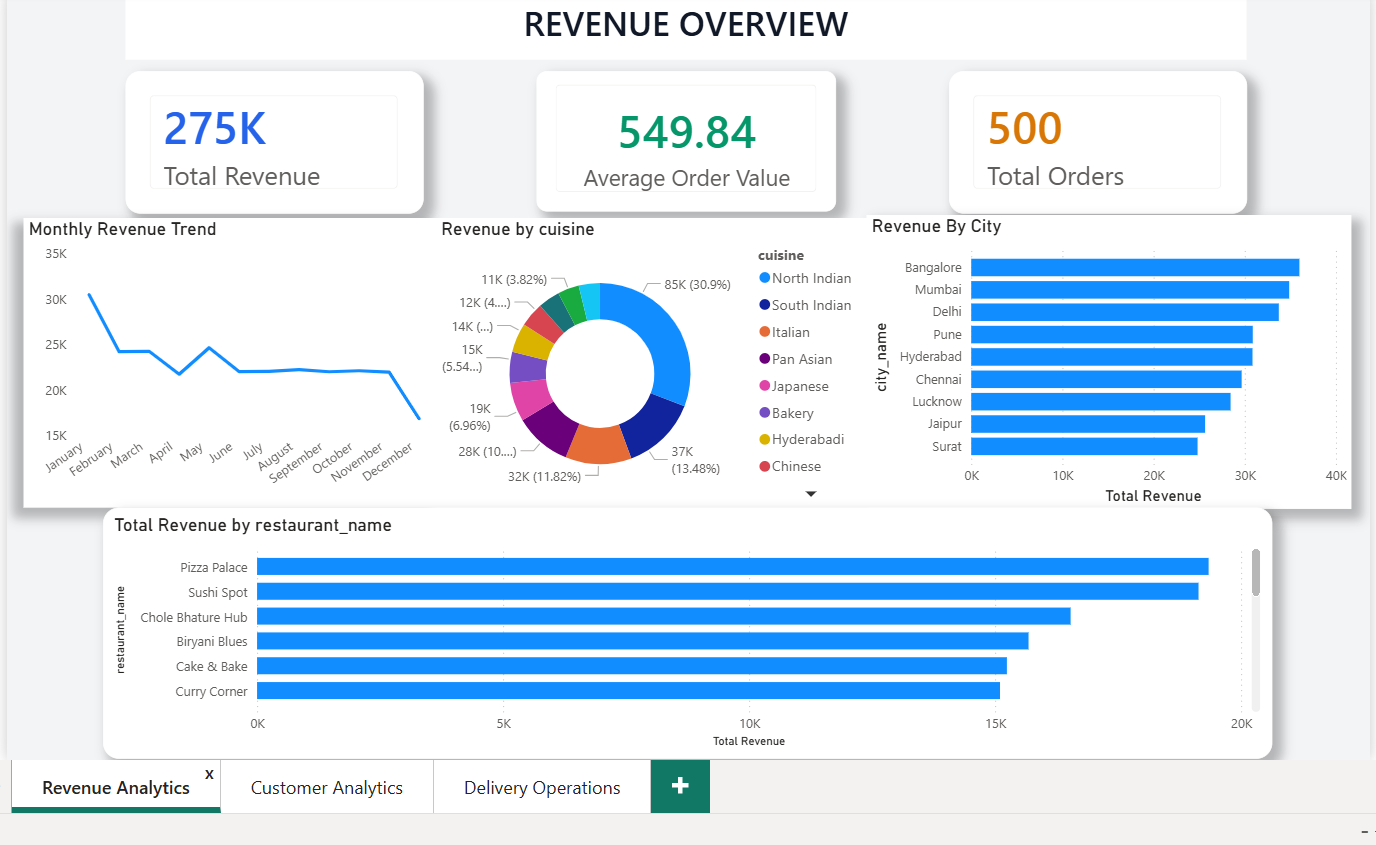

The dashboard page shown, as its layout file describes it:
{"tool":"powerbi","page":{"name":"Revenue Analytics","canvas":[1280,720],"ordinal":0},"visuals":[{"type":"cardVisual","fields":{"Data":["customer_analytics_dataset.Total Revenue"]},"box":[111.5,73.7,279.7,134.2],"z":0},{"type":"cardVisual","fields":{"Data":["customer_analytics_dataset.Total Orders"]},"box":[884.4,73.7,279.7,134.2],"z":1000},{"type":"cardVisual","fields":{"Data":["customer_analytics_dataset.Average Order Value"]},"box":[497,73.7,281.6,132.3],"z":2000},{"type":"lineChart","title":"Monthly Revenue Trend","fields":{"Y":["customer_analytics_dataset.Total Revenue"],"Category":["executive_kpi_dataset.order_date.Variation.Date Hierarchy.Month"]},"box":[15.1,211.7,387.4,272.1],"z":3000},{"type":"clusteredBarChart","title":"Revenue By City","fields":{"Category":["executive_kpi_dataset.city_name"],"Y":["customer_analytics_dataset.Total Revenue"]},"box":[806.9,207.9,455.4,275.9],"z":4000},{"type":"donutChart","title":"Revenue by cuisine","fields":{"Category":["executive_kpi_dataset.cuisine"],"Y":["customer_analytics_dataset.Total Revenue"]},"box":[402.5,211.7,404.4,272.1],"z":5000},{"type":"clusteredBarChart","fields":{"Category":["executive_kpi_dataset.restaurant_name"],"Y":["customer_analytics_dataset.Total Revenue"]},"box":[90.7,483.8,1098,236.2],"z":6000},{"type":"textbox","box":[111.5,0,1052.6,62.4],"z":7000}]}

Visuals, with their boxes on the page's 1280x720 design canvas (x1, y1, x2, y2). These are canvas units, not pixel positions in the 1376x845 screenshot, which may show the page scaled, cropped or inside an application window:
cardVisual - customer_analytics_dataset.Total Revenue: (112,74,391,208)
cardVisual - customer_analytics_dataset.Total Orders: (884,74,1164,208)
cardVisual - customer_analytics_dataset.Average Order Value: (497,74,779,206)
"Monthly Revenue Trend" lineChart: (15,212,402,484)
"Revenue By City" clusteredBarChart: (807,208,1262,484)
"Revenue by cuisine" donutChart: (402,212,807,484)
clusteredBarChart - executive_kpi_dataset.restaurant_name x customer_analytics_dataset.Total Revenue: (91,484,1189,720)
textbox: (112,0,1164,62)
